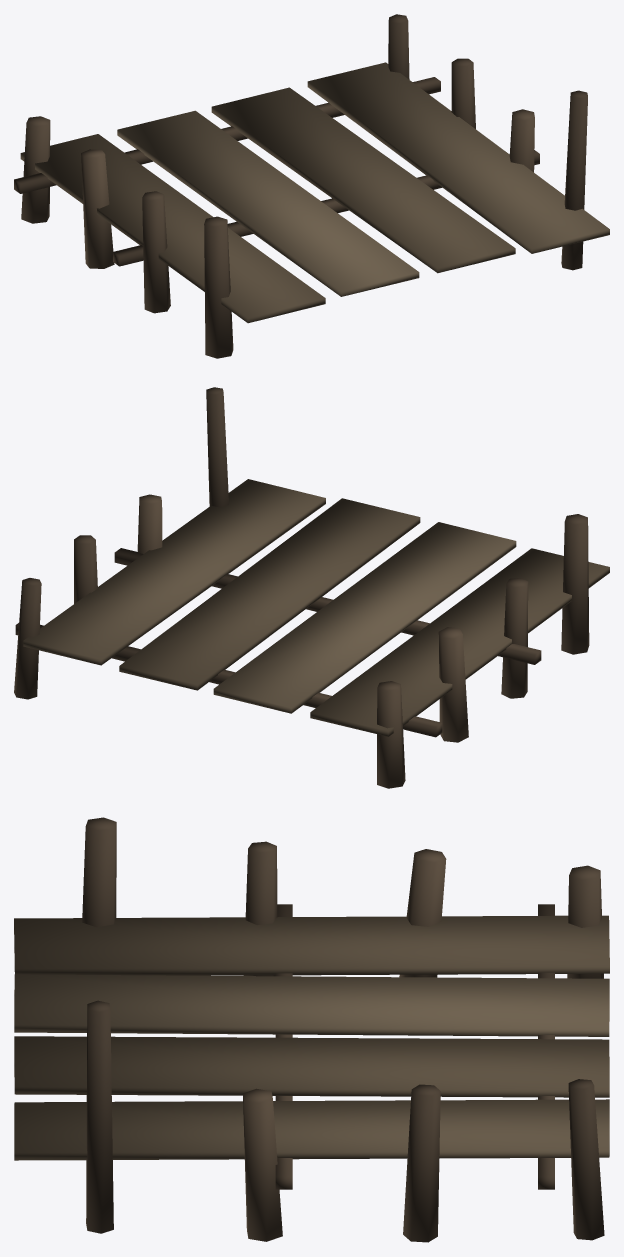
File: ferry-dock.glb
3 renders of one model, top to bottom at view 1: azimuth 30°, elevation 25°; view 2: azimuth 150°, elevation 25°; view 3: azimuth 270°, elevation 25°, orthographic. The views are drawn at different scales.
Visible parts, largest first — view 1: 소품.나루터; view 2: 소품.나루터; view 3: 소품.나루터.
Boxes of the visible parts, x1,y1,x2,y2 form: 소품.나루터: (14,14,609,358); 소품.나루터: (14,387,609,788); 소품.나루터: (14,817,609,1242).
Size of the model in its own units: 4.43 by 1.72 by 4.1.
